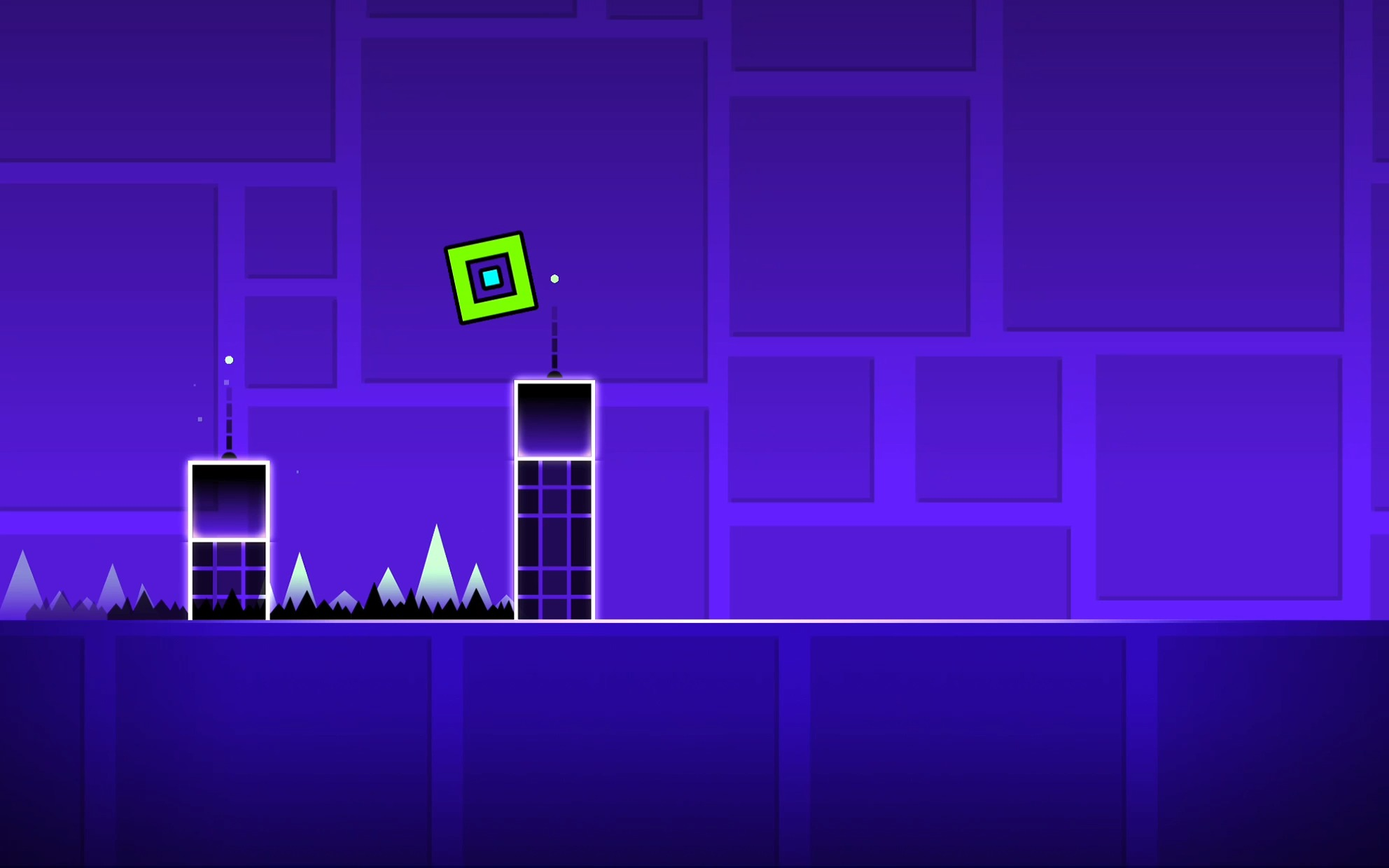Block: (189, 461, 269, 539), (516, 379, 594, 458)
Block2: (519, 461, 592, 621), (191, 541, 270, 620)
Player: (445, 230, 537, 323)
Spike3: (275, 590, 512, 622), (6, 587, 181, 622)
